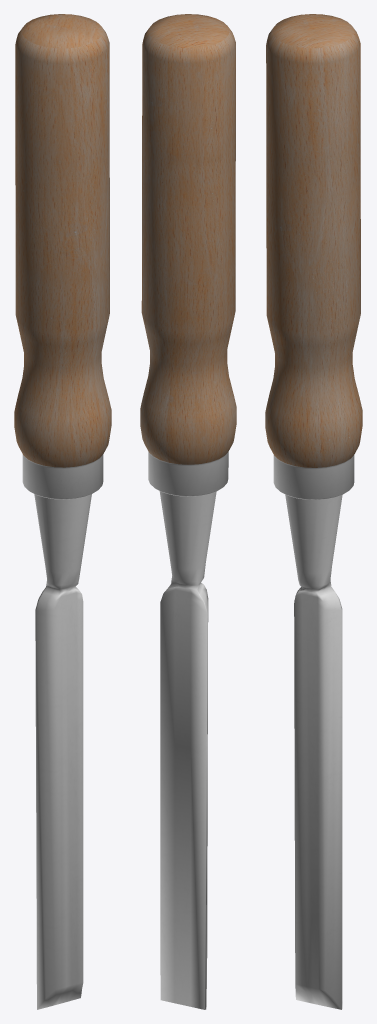
Rendered from Chisel.obj.
The picture shows the model from 3 angles, left to right: view 1: azimuth 30°, elevation 25°; view 2: azimuth 150°, elevation 25°; view 3: azimuth 330°, elevation 25°; orthographic projection.
Visible parts, largest first — view 1: Chisel; view 2: Chisel; view 3: Chisel.
Boxes of the visible parts, bbox=[...] form: Chisel: bbox=[14, 14, 111, 1009]; Chisel: bbox=[140, 14, 236, 1009]; Chisel: bbox=[265, 14, 362, 1009].
Bounding box in the file's own units: 0.036 × 0.4016 × 0.036.
1 material, 1 textured.
